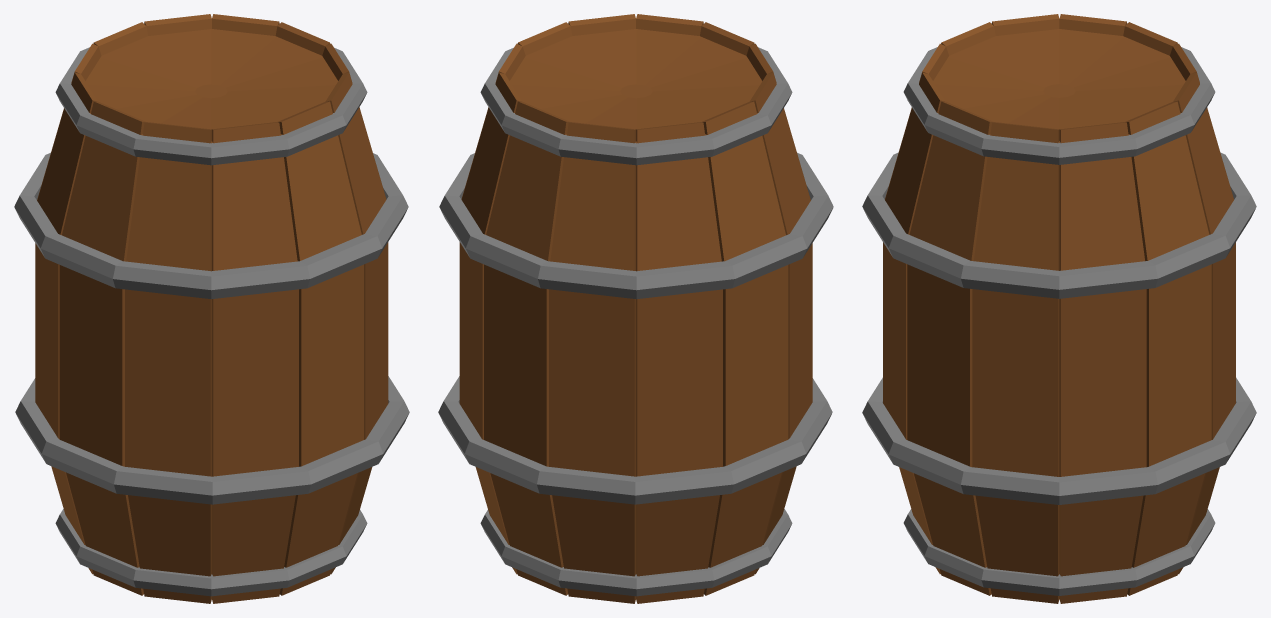
File: WoodenBarrel.fbx
3 views of the same model, side by side, from view 1: azimuth 30°, elevation 25°; view 2: azimuth 150°, elevation 25°; view 3: azimuth 270°, elevation 25° (orthographic).
Parts seen in each view (by area): view 1: WoodenBarrel; view 2: WoodenBarrel; view 3: WoodenBarrel.
Boxes of the visible parts, box(x1,y1,x2,y2) form: WoodenBarrel: box(14, 14, 409, 603); WoodenBarrel: box(438, 14, 833, 603); WoodenBarrel: box(862, 14, 1256, 603).
Bounding box in the file's own units: 119 × 157 × 119.
